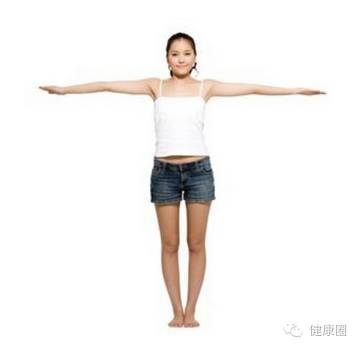handsup: (38, 31, 329, 329)
